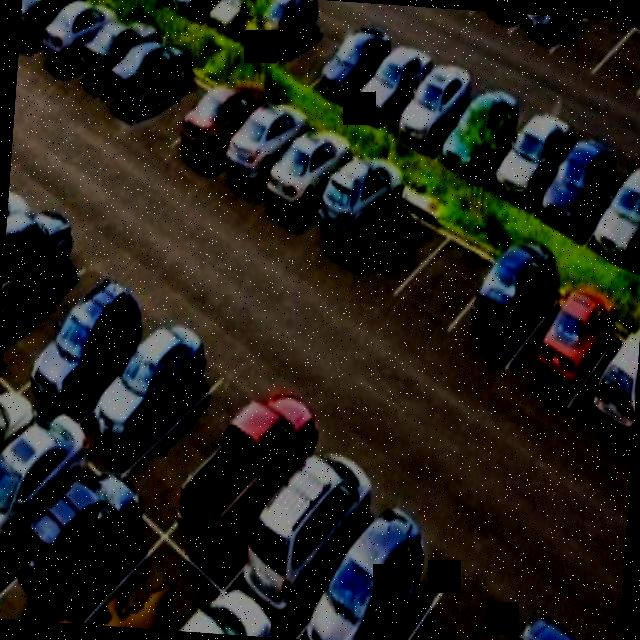car: (235, 442, 378, 632), (196, 390, 320, 584), (7, 481, 140, 624), (96, 303, 206, 475), (314, 509, 441, 640), (46, 279, 152, 424), (0, 404, 86, 580), (67, 532, 209, 632), (463, 238, 556, 366), (303, 148, 401, 267), (0, 198, 79, 342), (521, 290, 610, 412), (214, 94, 307, 208), (252, 134, 352, 238), (101, 27, 188, 127), (177, 73, 255, 182), (396, 44, 468, 160), (452, 78, 522, 188), (542, 125, 610, 238), (361, 32, 436, 134), (585, 330, 640, 466), (498, 106, 570, 204), (68, 10, 148, 96), (322, 16, 387, 118), (37, 0, 113, 85), (243, 0, 317, 69), (601, 168, 640, 286), (17, 0, 85, 65), (204, 0, 270, 38)
free: (135, 362, 255, 530), (0, 243, 121, 398), (408, 227, 493, 333), (352, 200, 438, 302), (131, 56, 217, 150), (278, 0, 352, 91), (554, 16, 620, 85), (605, 22, 640, 107)
